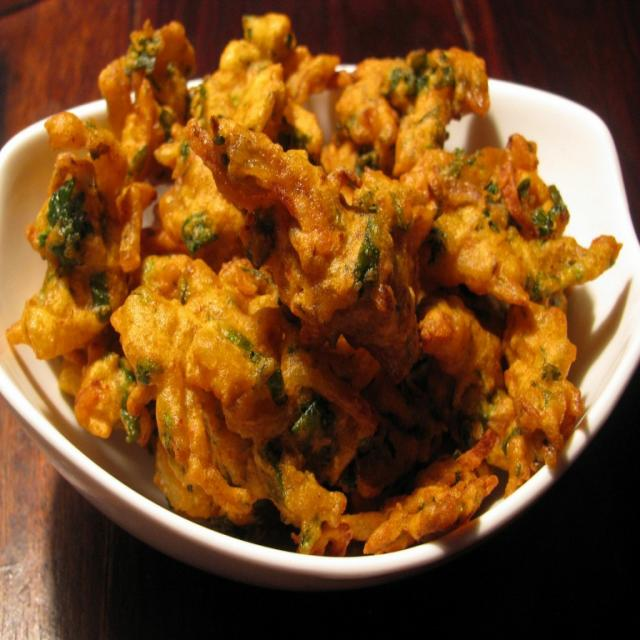Onion Pakora: (0, 0, 618, 551)
